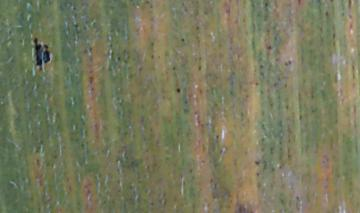tarspot: (30, 36, 52, 72), (282, 59, 294, 68), (345, 1, 354, 10), (196, 64, 204, 72), (265, 43, 273, 51), (72, 21, 79, 30), (194, 23, 201, 31), (253, 159, 261, 166), (170, 64, 177, 72), (114, 54, 121, 61), (255, 171, 262, 178), (296, 1, 304, 7), (323, 8, 329, 16), (214, 133, 220, 140), (175, 87, 181, 93), (149, 40, 155, 46), (150, 52, 154, 60), (179, 37, 184, 42), (254, 81, 258, 87), (327, 1, 334, 4)
